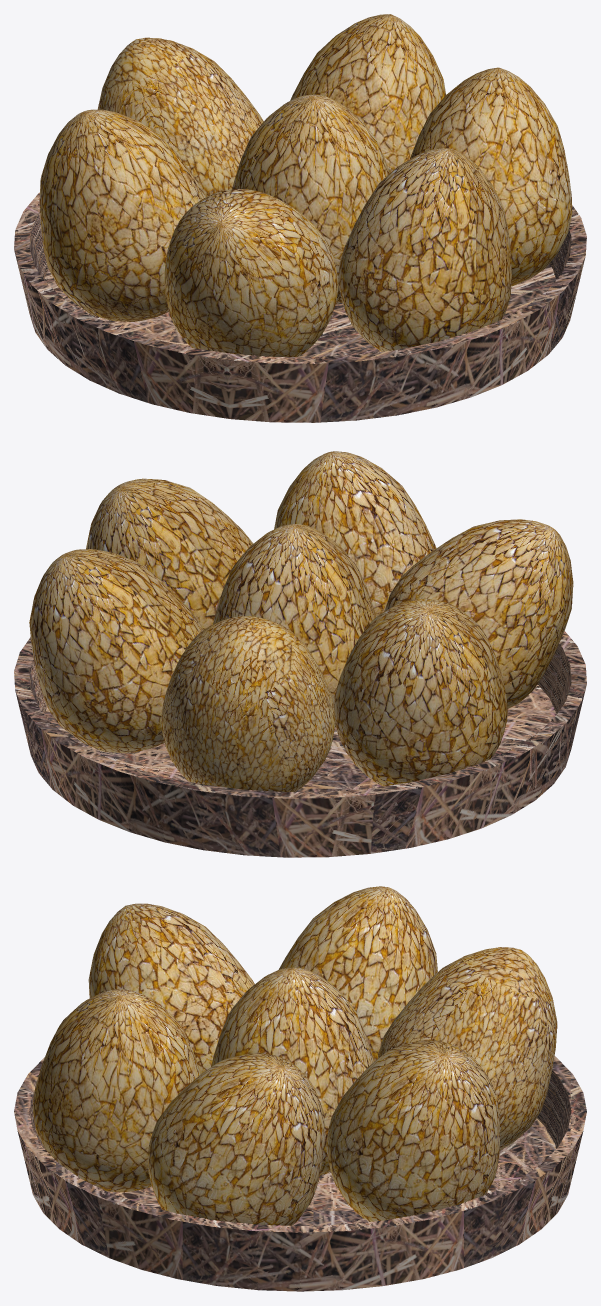
File: huevos.obj
3 views of the same model, one above another, from view 1: azimuth 30°, elevation 25°; view 2: azimuth 150°, elevation 25°; view 3: azimuth 270°, elevation 25° (orthographic).
Visible parts, largest first — view 1: Sphere.006; view 2: Sphere.006; view 3: Sphere.006.
Part boxes in pixels (bbox=[...]): Sphere.006: bbox=[14, 14, 586, 422]; Sphere.006: bbox=[14, 451, 586, 857]; Sphere.006: bbox=[14, 886, 586, 1291].
Bounding box in the file's own units: 7.23 × 2.95 × 7.23.
